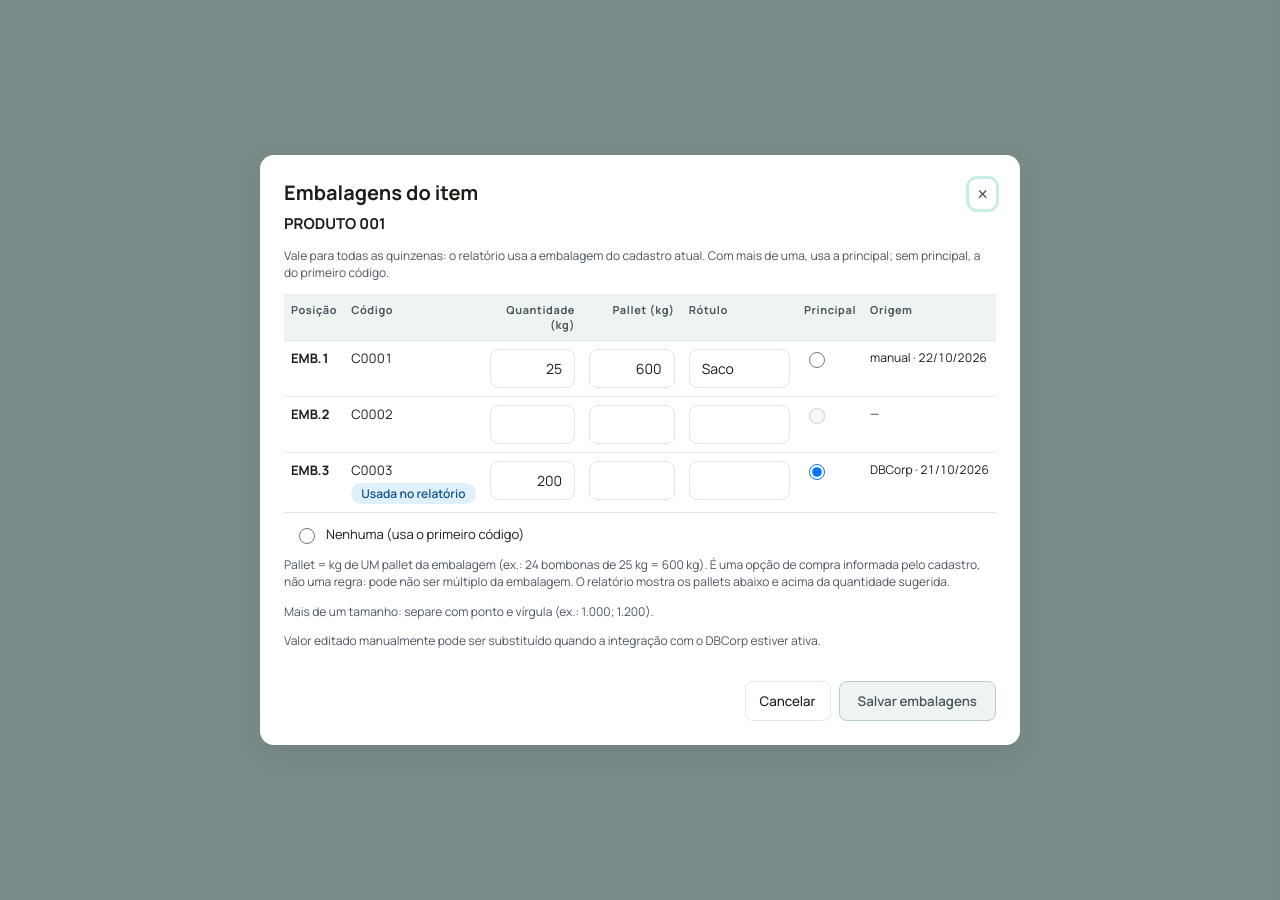
Scenario: ForecastEmbalagensModal - pallet fechado (PR 6e) › trocar a quantidade para um valor que deixa de dividir o pallet salvo mostra o aviso (nao bloqueia) e some ao voltar a dividir
The width and height of the screenshot is (1280, 900).
Expected: the text "PRODUTO 001" is shown, [284, 213, 386, 235]
Replace the text in the field named "Quantidade em kg do código C0001" with "7" at (532, 368), box [490, 349, 575, 388]
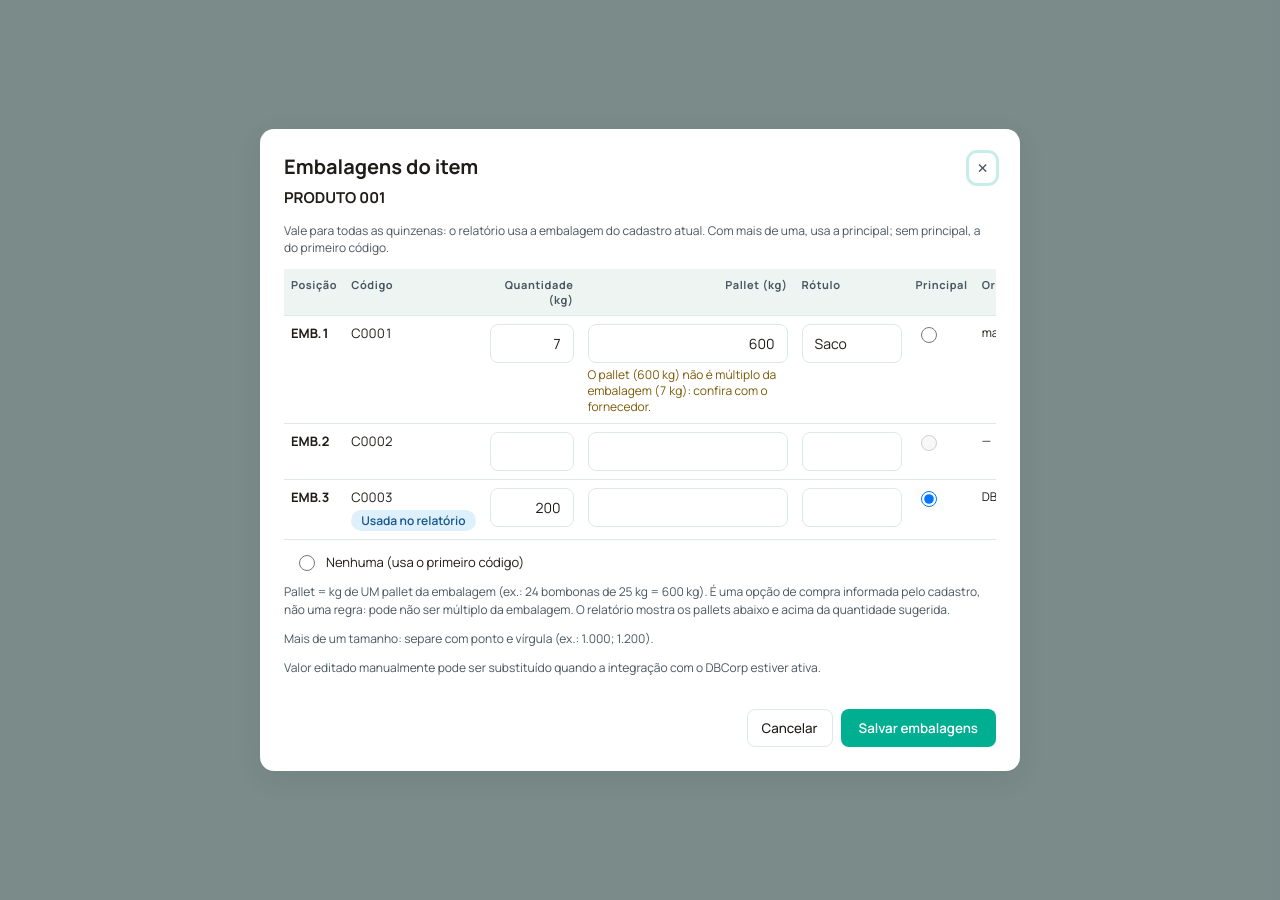
Result: the text "O pallet (600 kg) não é múltiplo da embalagem (7 kg): confira com o fornecedor." is shown at [588, 367, 788, 415]
Result: the button "Salvar embalagens" is enabled at [841, 709, 996, 747]
Replace the text in the field named "Quantidade em kg do código C0001" with "20" at (532, 343), box [490, 324, 574, 363]
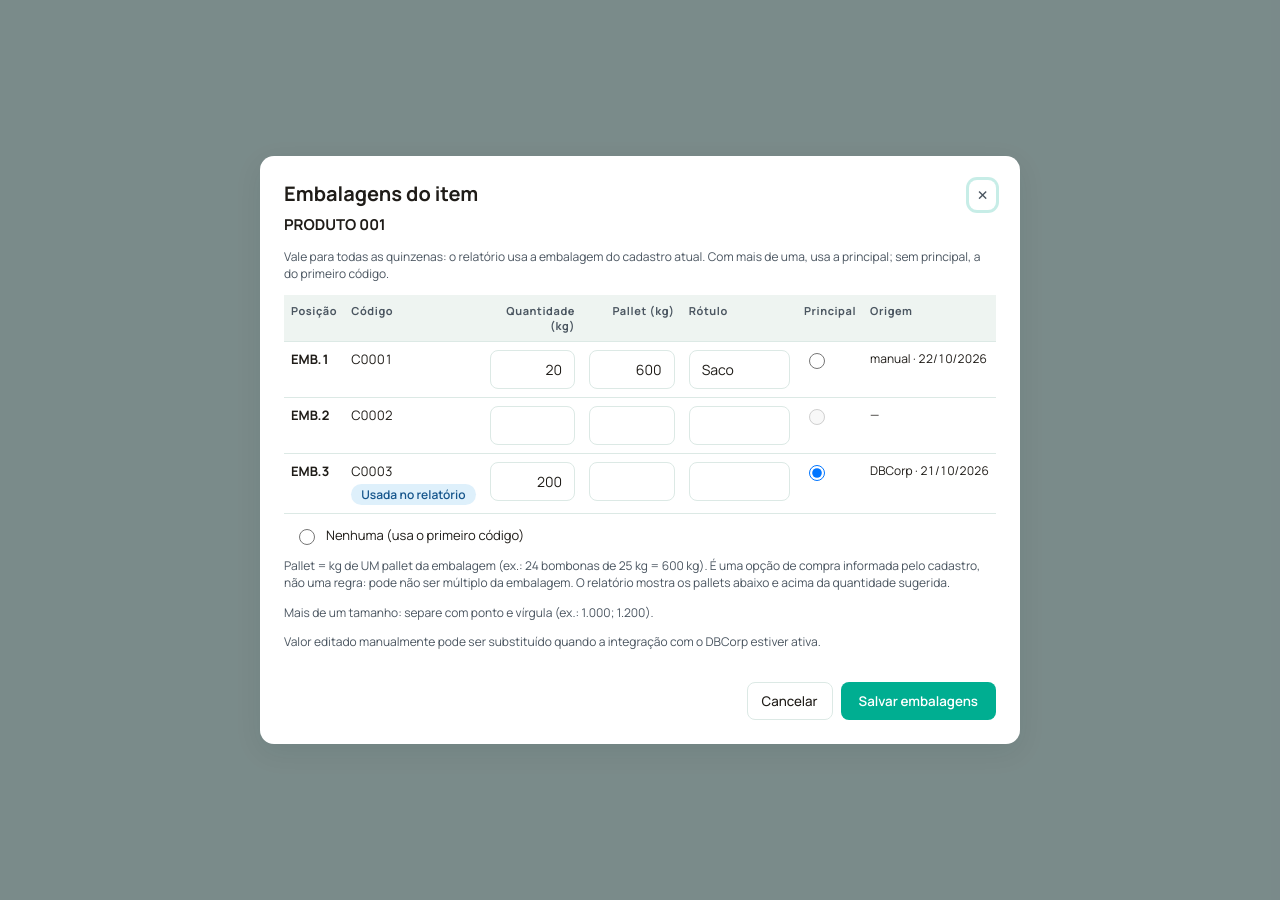
Result: the button "Salvar embalagens" is enabled at [841, 682, 996, 720]
Result: the text "não é múltiplo" is gone
